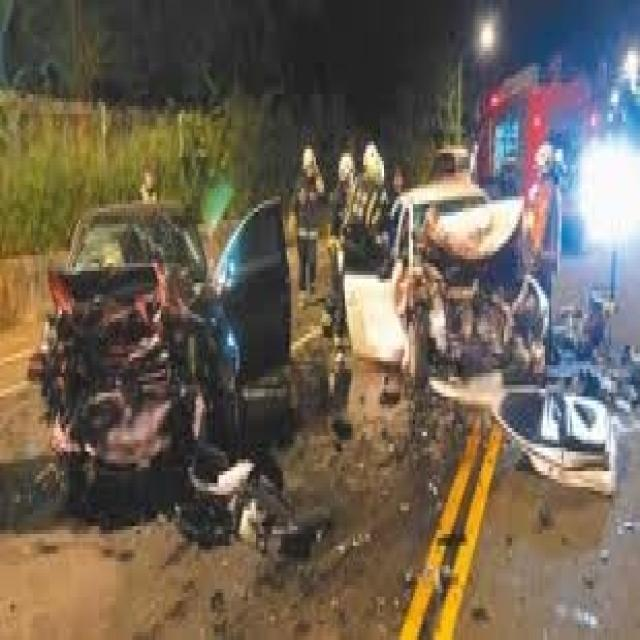accident: (30, 188, 308, 520), (340, 130, 575, 454)
